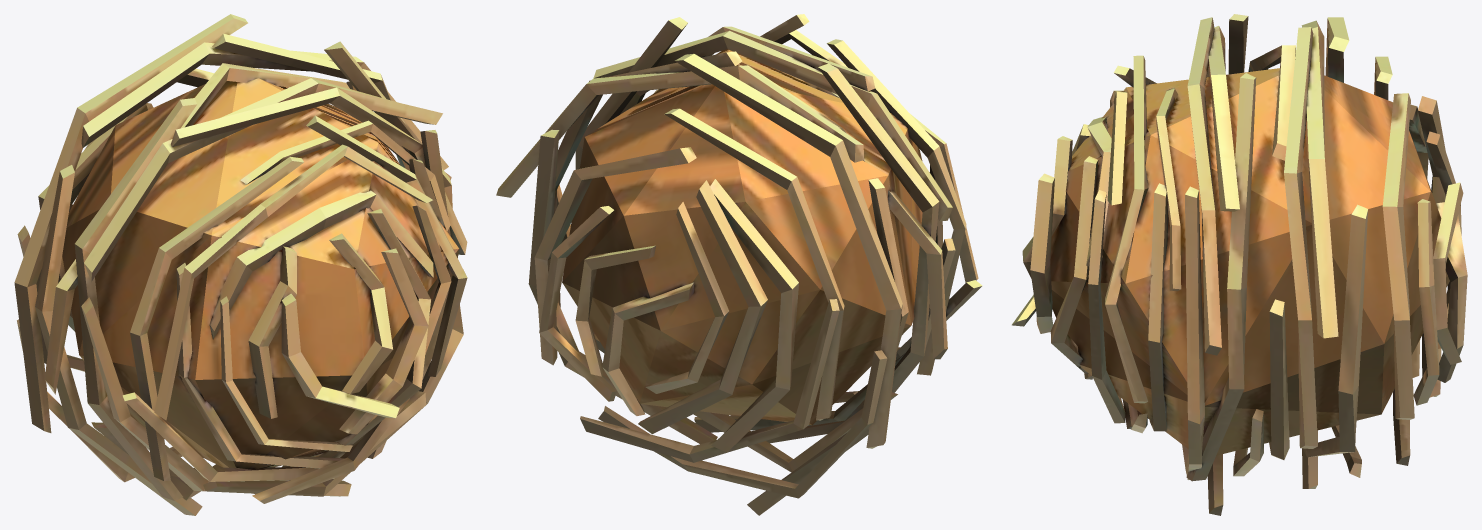
The model's file is 0ySmwTitJrP.glb.
3 views of the same model, side by side, from view 1: azimuth 30°, elevation 25°; view 2: azimuth 150°, elevation 25°; view 3: azimuth 270°, elevation 25° (orthographic). The views are drawn at different scales.
Visible parts, largest first — view 1: Tumbleweed; view 2: Tumbleweed; view 3: Tumbleweed.
Boxes of the visible parts, left/top/right/bottom form: Tumbleweed: left=14, top=14, right=467, bottom=515; Tumbleweed: left=496, top=14, right=982, bottom=515; Tumbleweed: left=1012, top=14, right=1467, bottom=515.
Size of the model in its own units: 0.958 by 1 by 0.8586.
1 material, 1 textured.
